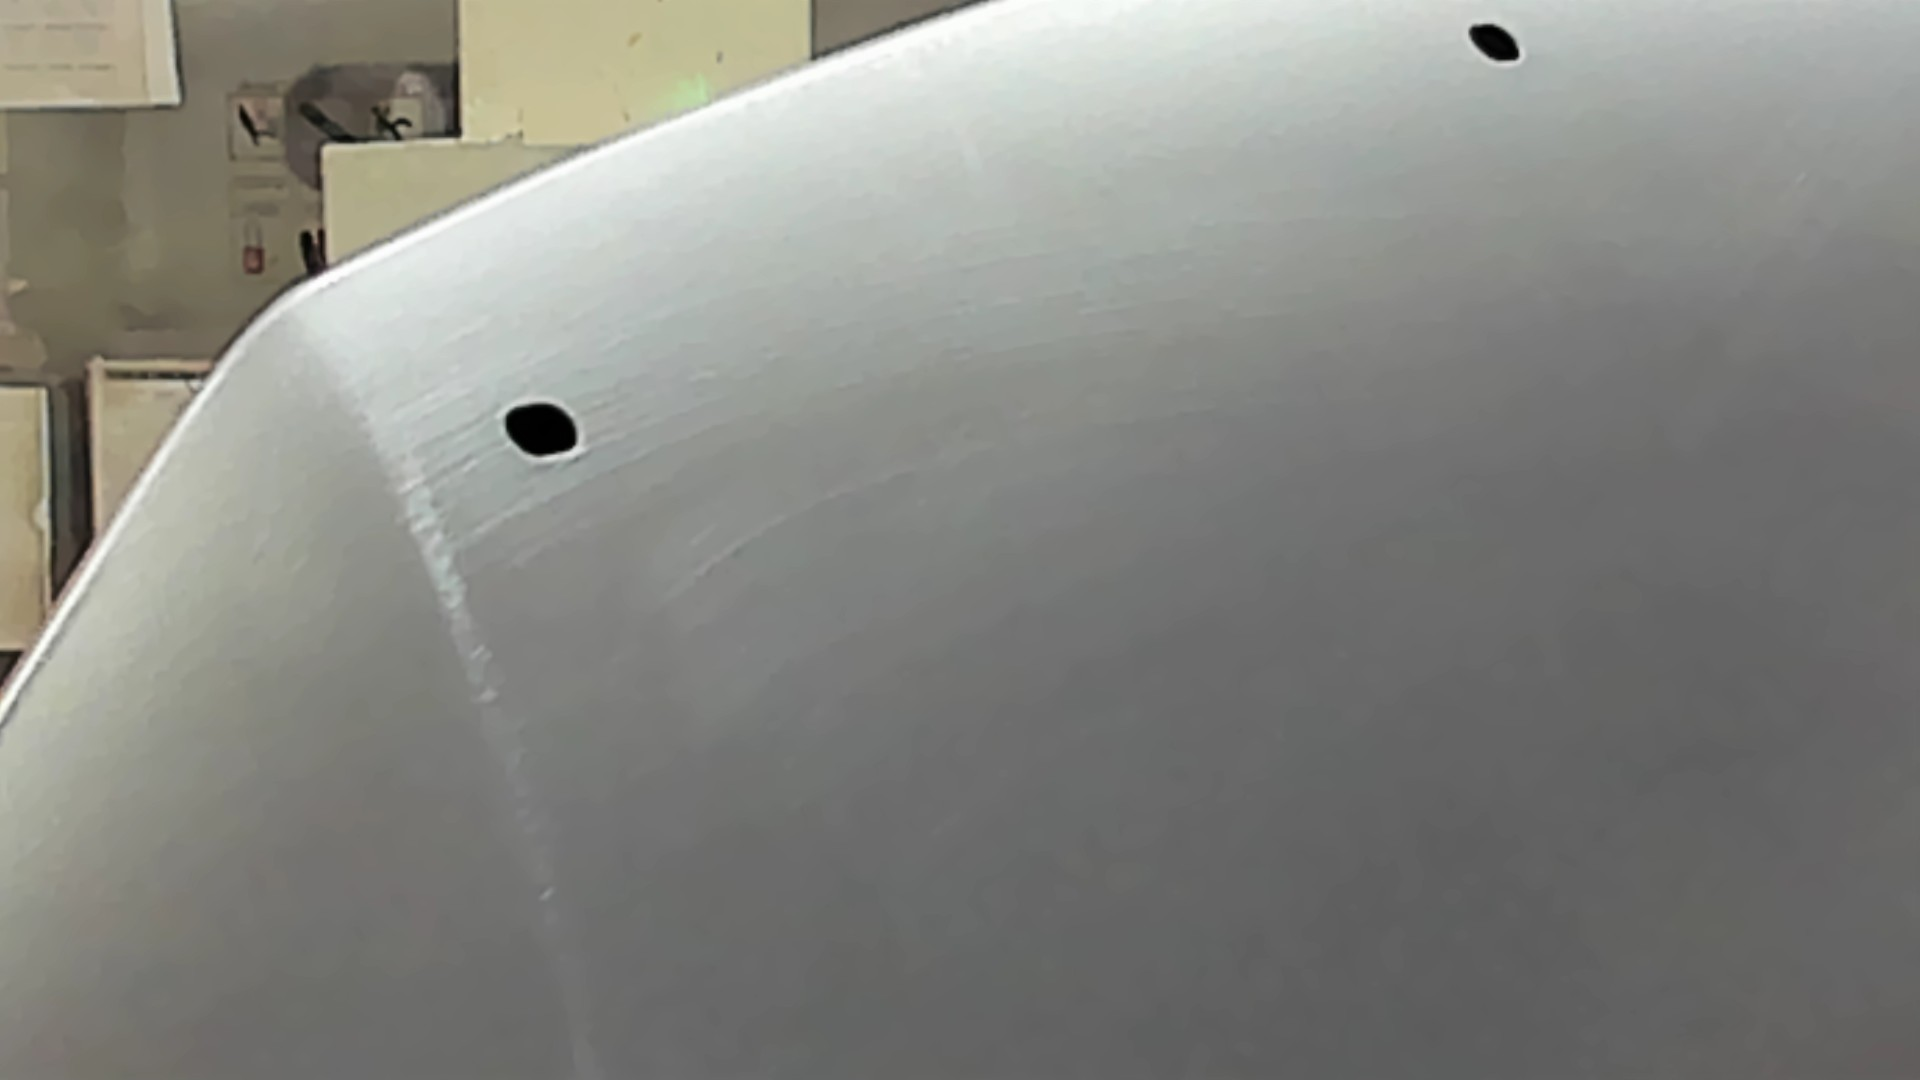chico: (497, 396, 589, 468), (1455, 17, 1538, 67)
